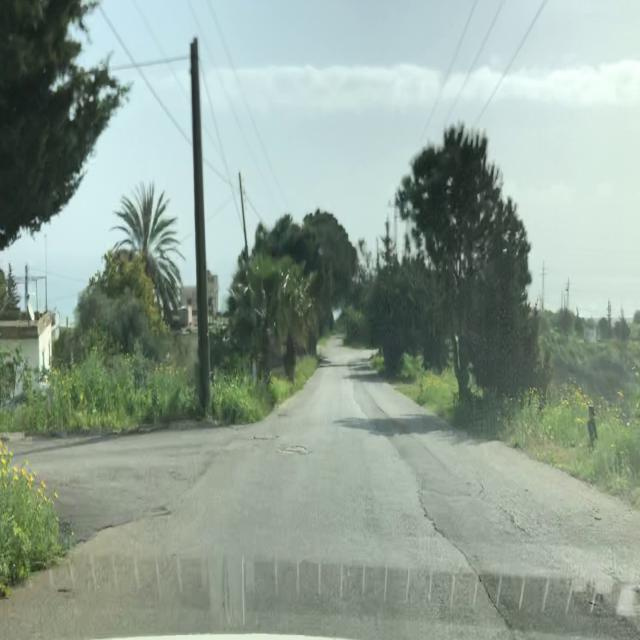pothole: (278, 445, 308, 455), (250, 435, 276, 442)
